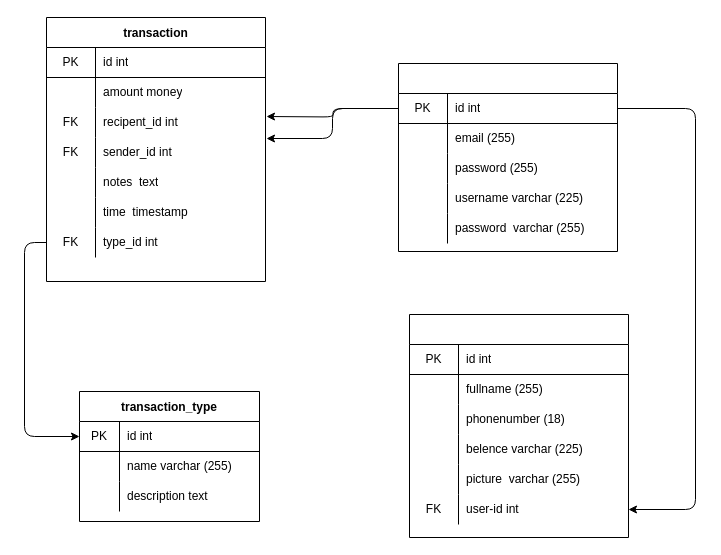
Some shapes in this 721 by 555 pixel diagram are drawn without their labels. Each missing label, with the box of its shape:
profile: (408, 314, 628, 538)
users: (398, 62, 618, 252)
